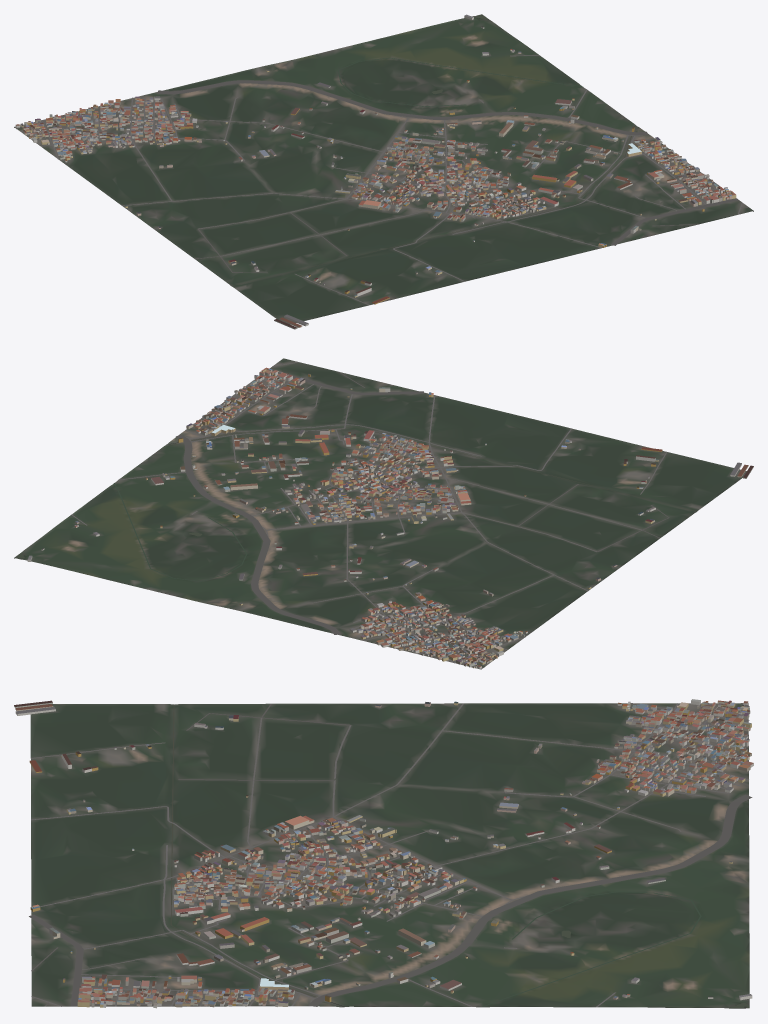
3 renders of one model, top to bottom at view 1: azimuth 30°, elevation 25°; view 2: azimuth 150°, elevation 25°; view 3: azimuth 270°, elevation 25°, orthographic. The views are drawn at different scales.
Visible parts, largest first — view 1: ground, buildings, roads, water; view 2: ground, buildings, roads, water; view 3: ground, buildings, roads, water.
Boxes of the visible parts, box(x1,y1,x2,y2) form: ground: box(14, 15, 753, 324); buildings: box(15, 14, 736, 329); roads: box(14, 55, 748, 305); water: box(231, 14, 635, 286); ground: box(14, 358, 746, 669); buildings: box(27, 367, 753, 668); roads: box(71, 362, 669, 669); water: box(15, 427, 696, 581); ground: box(30, 703, 749, 1008); buildings: box(14, 699, 753, 1008); roads: box(29, 703, 752, 1007); water: box(170, 704, 749, 1007).
Size of the model in its own units: 1416 by 19.06 by 1445.
